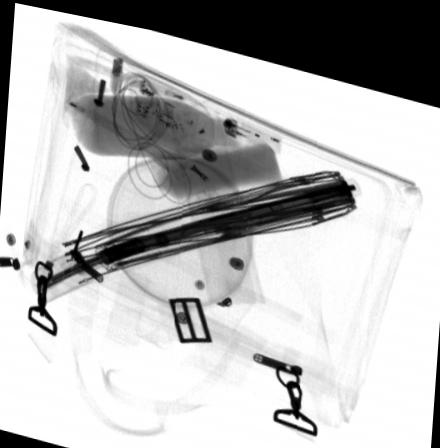Lighter: (221, 105, 283, 141)
